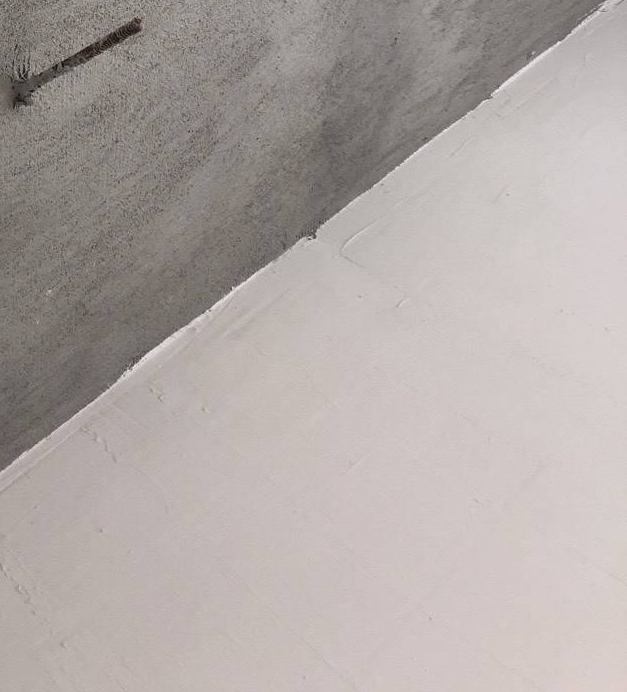Exposed reinforcement: (11, 15, 143, 111)
